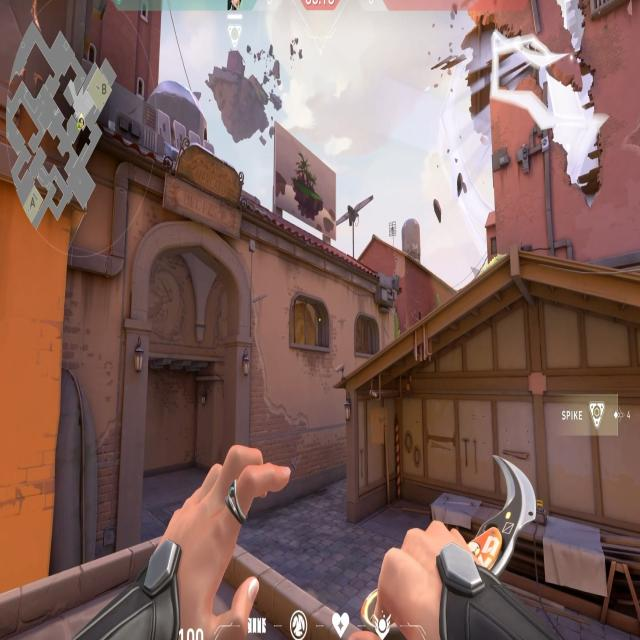B_Garage_Left: (340, 384, 453, 519)
Throwables: (285, 287, 334, 358), (353, 307, 383, 361)
